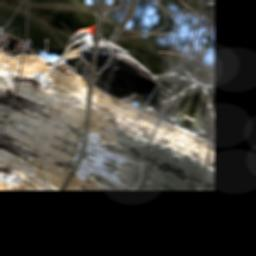Woodpecker: (52, 13, 199, 127)
